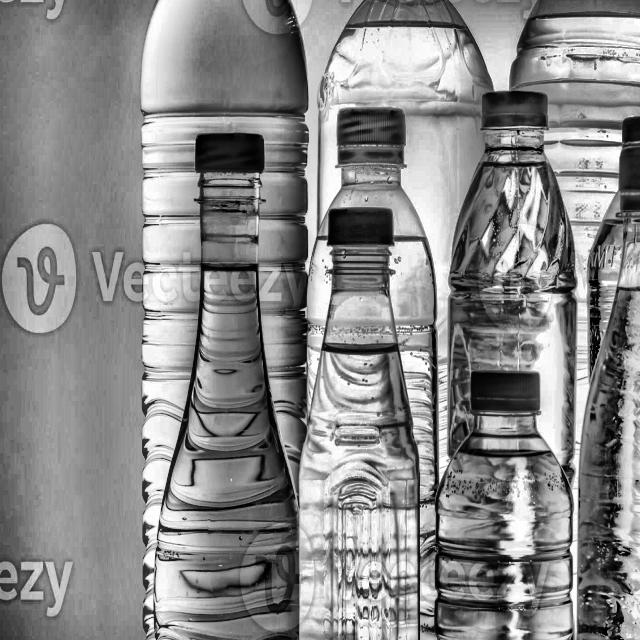bottle: (420, 63, 583, 640), (152, 135, 299, 640)
